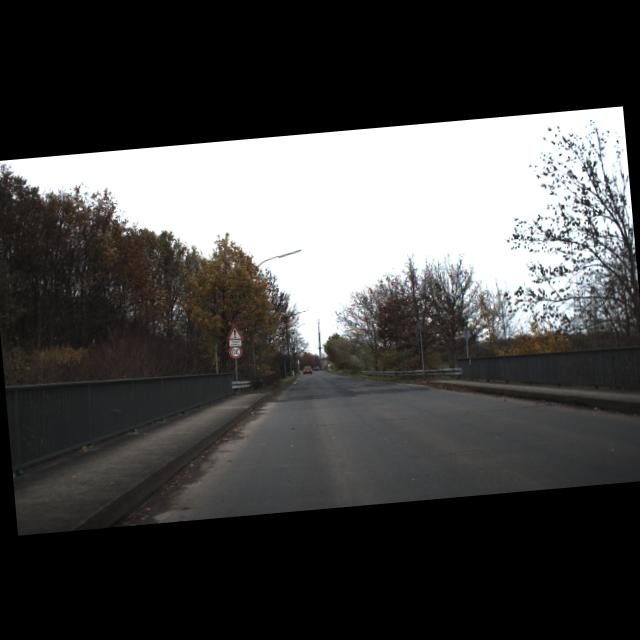danger: (224, 322, 244, 341)
prohibitory: (228, 344, 242, 358)
